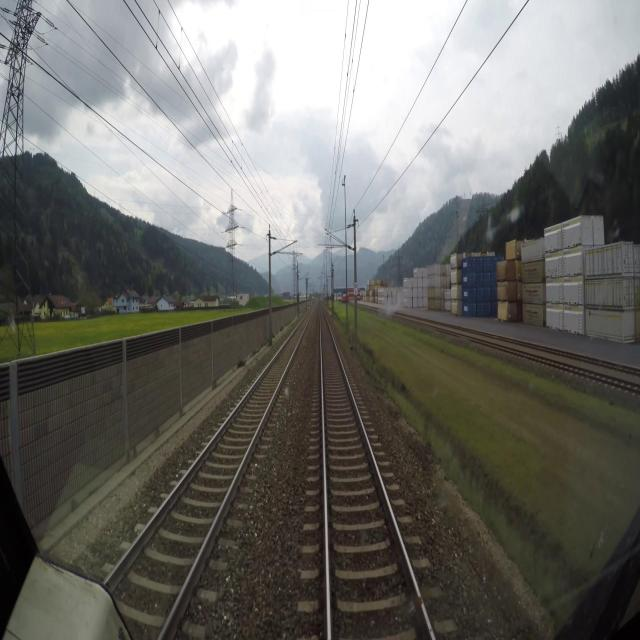rail-track: (109, 316, 307, 639), (321, 306, 431, 639), (582, 371, 640, 389)
